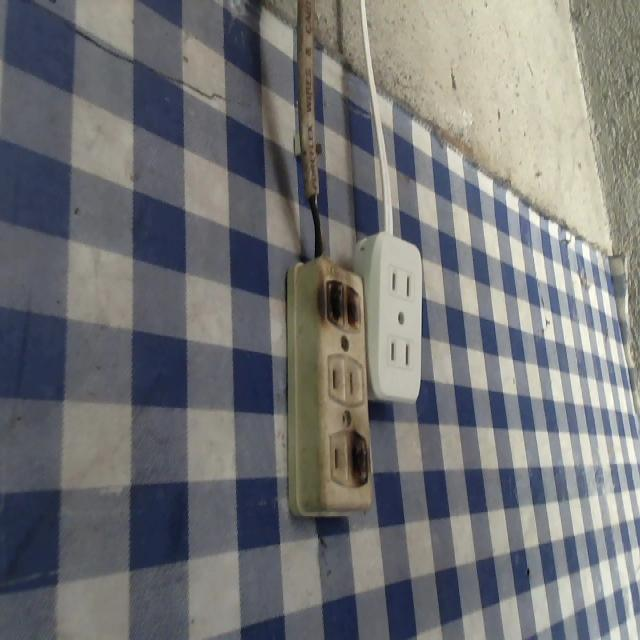-: (323, 277, 365, 331), (346, 428, 376, 492)
